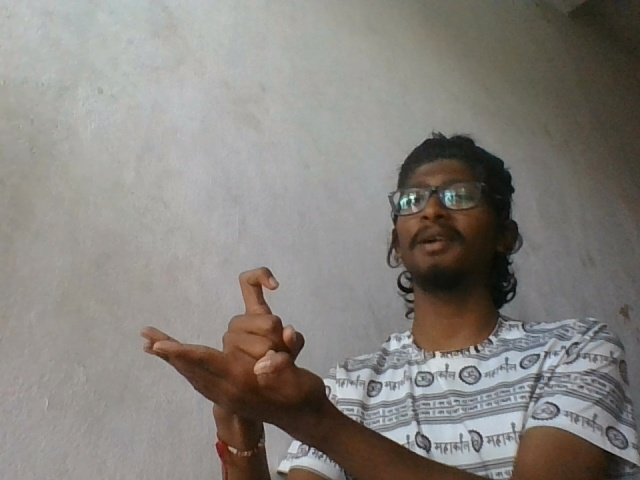No: (132, 265, 342, 423)
